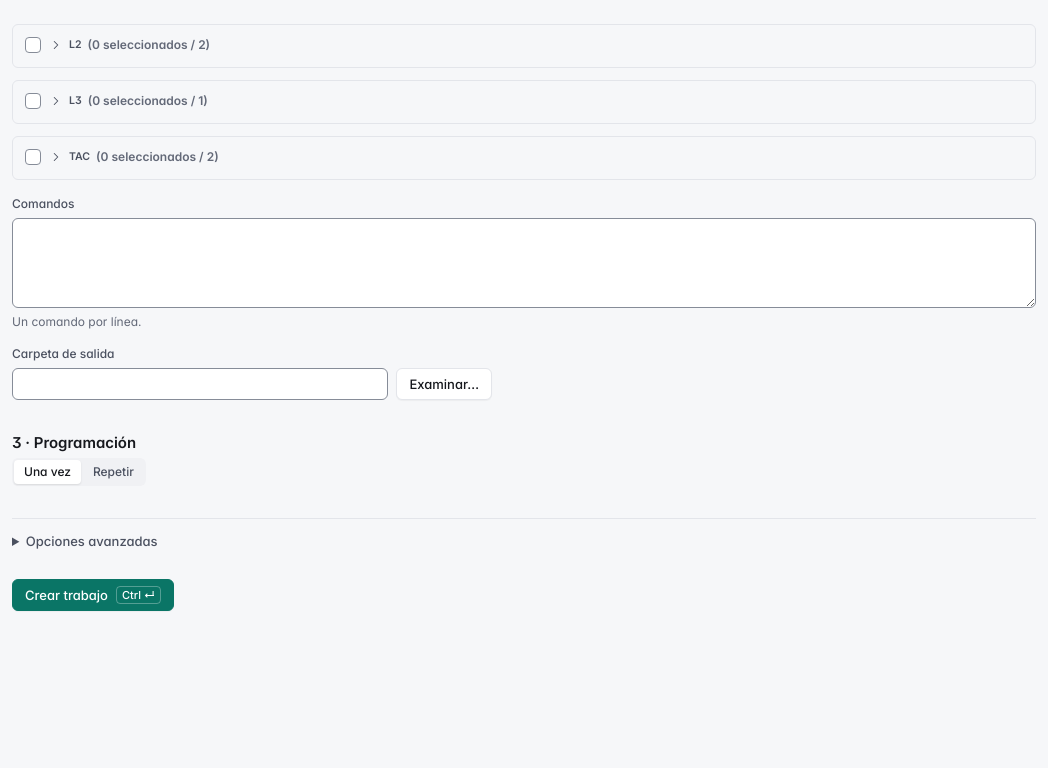
Test: la carpeta de salida se elige con el diálogo nativo de carpetas
This screenshot has width=1048, height=768.
(page scrolled)
What coordinates should you click on to do the following:
click the button with aria-label "Examinar… Carpeta de salida"
I would click on:
 (444, 384)
Its box is [396, 368, 492, 400].
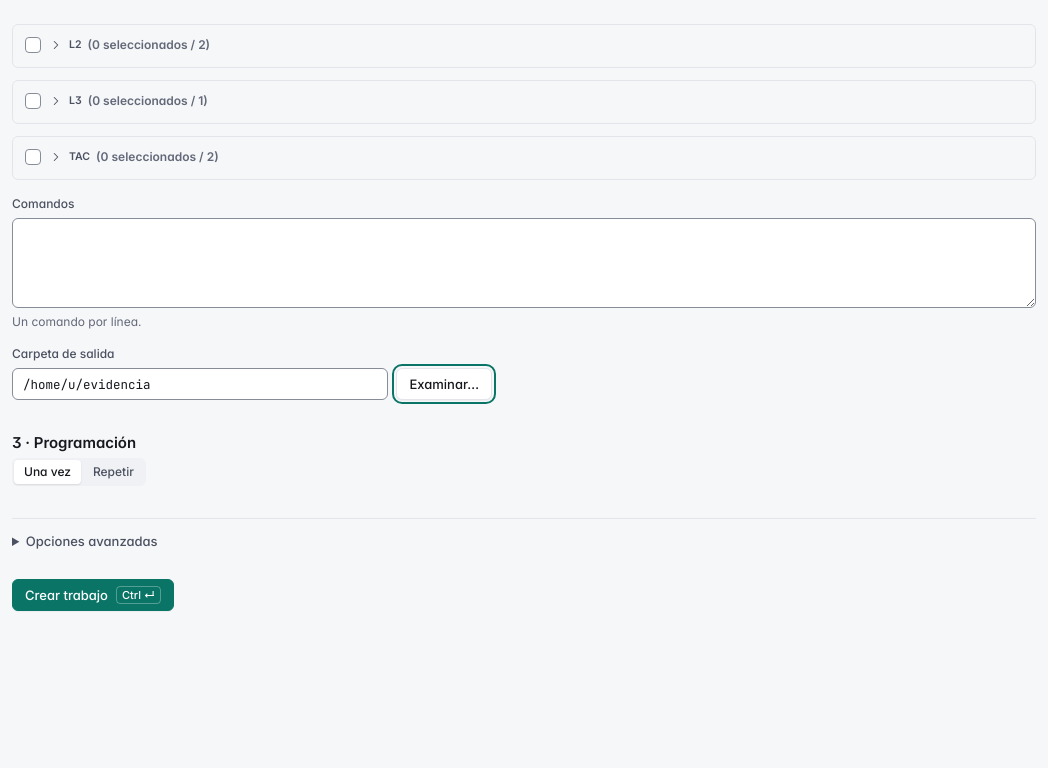
Expected: the field labelled "Carpeta de salida" holds "/home/u/evidencia", [12, 368, 388, 400]
